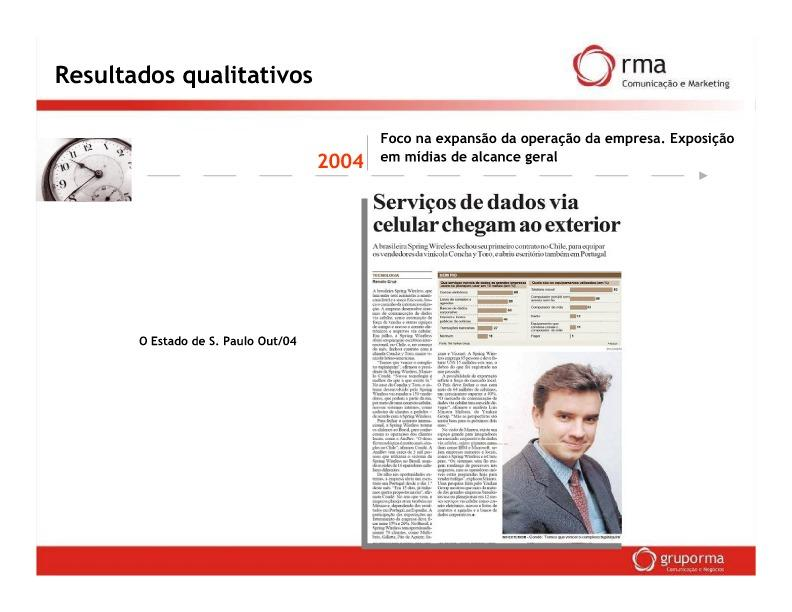paragraph: (312, 122, 734, 537)
subtitle: (134, 321, 305, 358)
title: (50, 56, 325, 91)
